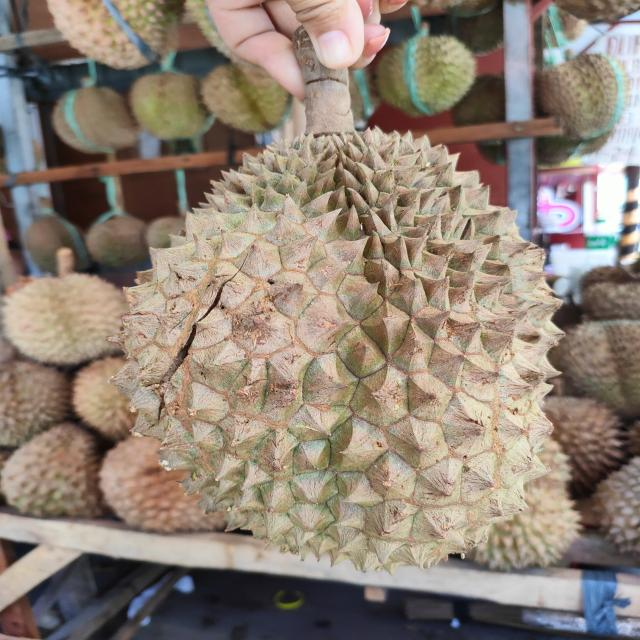mature: (109, 122, 566, 576)
